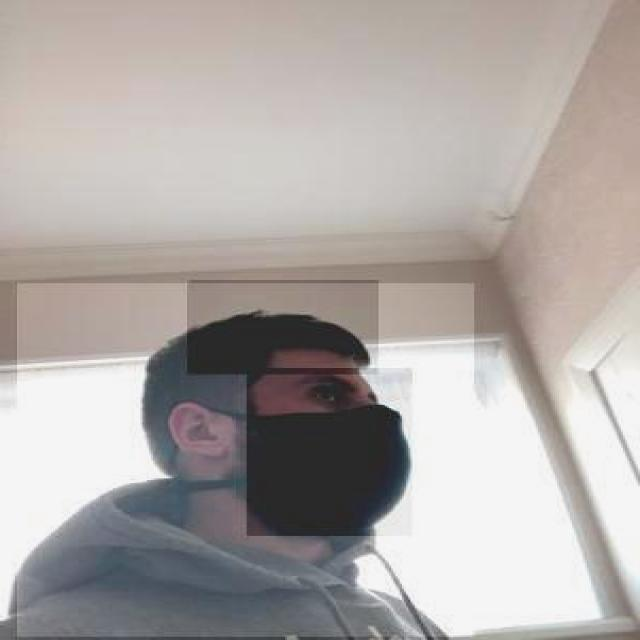face_mask: (247, 368, 412, 536)
head_nohelmet: (187, 280, 379, 374)
person: (15, 284, 474, 638)
